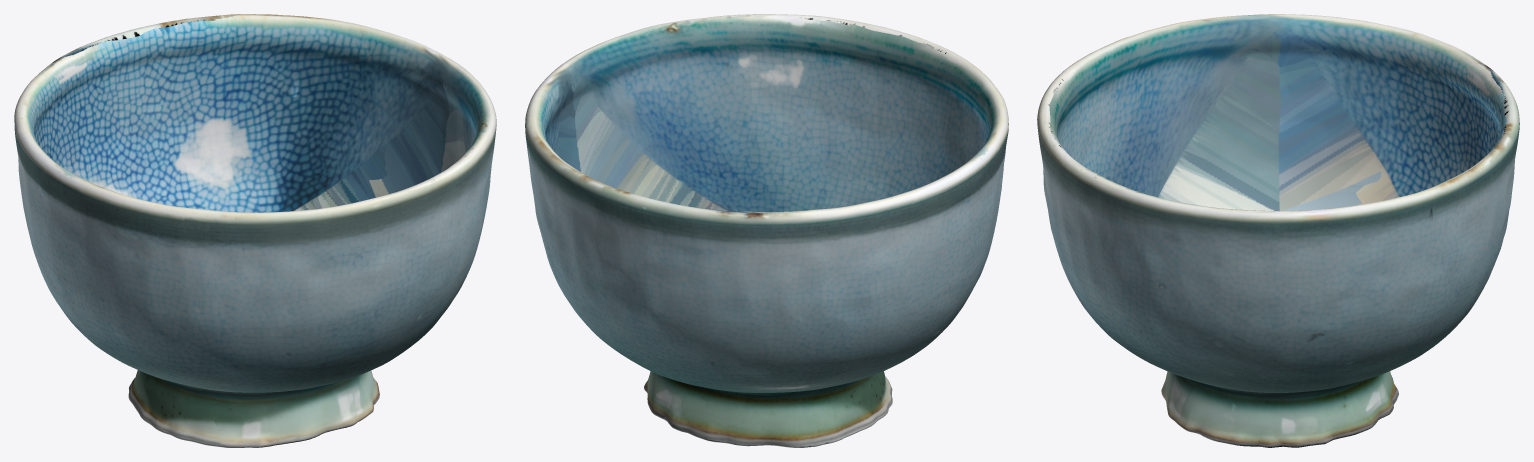
The model's file is syncmvd.glb.
The picture shows the model from 3 angles, left to right: view 1: azimuth 30°, elevation 25°; view 2: azimuth 150°, elevation 25°; view 3: azimuth 270°, elevation 25°; orthographic projection.
Parts seen in each view (by area): view 1: textured; view 2: textured; view 3: textured.
Part boxes in pixels (box(x1,y1,x2,y2)): textured: box(14, 14, 496, 447); textured: box(525, 14, 1008, 447); textured: box(1037, 14, 1519, 447).
Bounding box in the file's own units: 2 × 1.3 × 2.
1 material, 1 textured.
